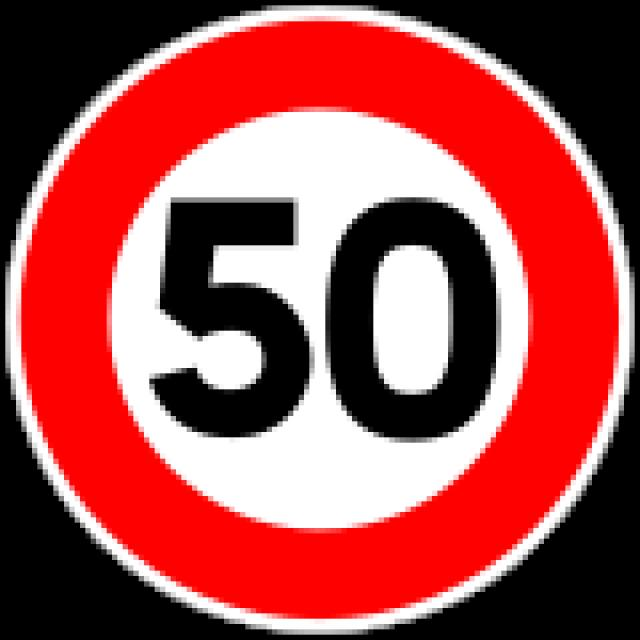Speed Limit -50-: (135, 185, 507, 449)
